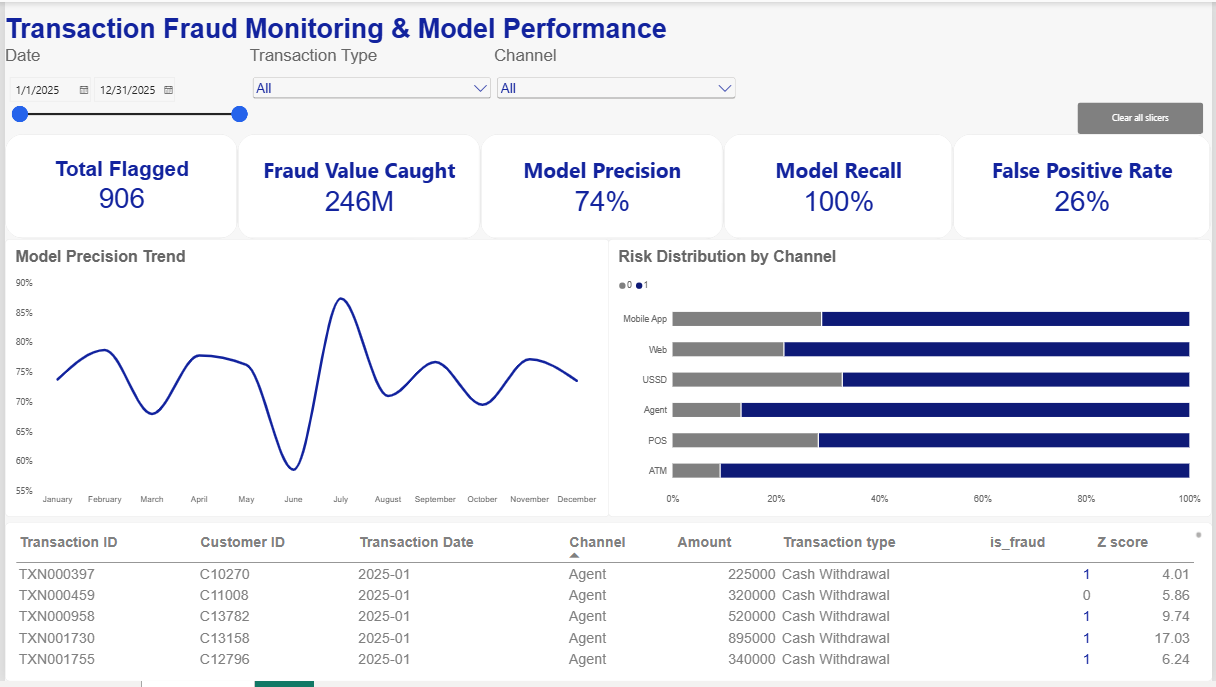

This screenshot's page, from the dashboard's own definition file:
{"tool":"powerbi","page":{"name":"Page 1","canvas":[1920,1080],"ordinal":0},"visuals":[{"type":"textbox","box":[0,0,1920.7,69.2],"z":0},{"type":"cardVisual","fields":{"Data":["Detected Transactions.Total Flagged"]},"box":[0,210,370,166],"z":1000},{"type":"cardVisual","fields":{"Data":["Detected Transactions.Fraud Value Caught"]},"box":[369.8,210,386.5,167],"z":2000},{"type":"cardVisual","fields":{"Data":["Detected Transactions.Model Precision"]},"box":[756.3,210,386.5,167],"z":3000},{"type":"cardVisual","fields":{"Data":["Detected Transactions.Model Recall"]},"box":[1142.9,210,365,167],"z":4000},{"type":"cardVisual","fields":{"Data":["Detected Transactions.False Positive Rate"]},"box":[1507.9,210,410.4,167],"z":5000},{"type":"lineChart","title":"Model Precision Trend","fields":{"Category":["Detected Transactions.transaction_date.Variation.Date Hierarchy.Month"],"Y":["Detected Transactions.Model Precision"]},"box":[0,376,962,442],"z":6000},{"type":"hundredPercentStackedBarChart","title":"Risk Distribution by Channel","fields":{"Category":["Detected Transactions.channel"],"Series":["Detected Transactions.is_fraud"],"Y":["CountNonNull(Detected Transactions.transaction_id)"]},"box":[960,376,960,442],"z":7000},{"type":"tableEx","fields":{"Values":["Detected Transactions.transaction_id","Detected Transactions.customer_id","Detected Transactions.transaction_date","Detected Transactions.channel","Sum(Detected Transactions.amount_ngn)","Detected Transactions.transaction_type","Sum(Detected Transactions.is_fraud)","Sum(Detected Transactions.z_score)"]},"box":[0,827.9,1920.7,252.9],"z":8000},{"type":"slicer","title":"Date","fields":{"Values":["Detected Transactions.transaction_date"]},"box":[0,69.2,388.9,140.8],"z":9000},{"type":"slicer","title":"Transaction Type","fields":{"Values":["Detected Transactions.transaction_type"]},"box":[388.9,69.2,388.9,140.8],"z":10000},{"type":"slicer","title":"Channel","fields":{"Values":["Detected Transactions.channel"]},"box":[777.8,69.2,388.9,140.8],"z":11000},{"type":"actionButton","box":[1705.9,159.9,200,50],"z":12000}]}

Visuals, with their boxes in screenshot pixels (x1, y1, x2, y2), scaled from the page's 1920x1080 canvas onto the 1216x687 screenshot:
textbox: {"x1": 0, "y1": 0, "x2": 1215, "y2": 44}
cardVisual - Detected Transactions.Total Flagged: {"x1": 0, "y1": 134, "x2": 234, "y2": 239}
cardVisual - Detected Transactions.Fraud Value Caught: {"x1": 234, "y1": 134, "x2": 479, "y2": 240}
cardVisual - Detected Transactions.Model Precision: {"x1": 479, "y1": 134, "x2": 724, "y2": 240}
cardVisual - Detected Transactions.Model Recall: {"x1": 724, "y1": 134, "x2": 955, "y2": 240}
cardVisual - Detected Transactions.False Positive Rate: {"x1": 955, "y1": 134, "x2": 1215, "y2": 240}
"Model Precision Trend" lineChart: {"x1": 0, "y1": 239, "x2": 609, "y2": 520}
"Risk Distribution by Channel" hundredPercentStackedBarChart: {"x1": 608, "y1": 239, "x2": 1215, "y2": 520}
tableEx - Detected Transactions.transaction_id x Detected Transactions.customer_id: {"x1": 0, "y1": 527, "x2": 1215, "y2": 686}
"Date" slicer: {"x1": 0, "y1": 44, "x2": 246, "y2": 134}
"Transaction Type" slicer: {"x1": 246, "y1": 44, "x2": 493, "y2": 134}
"Channel" slicer: {"x1": 493, "y1": 44, "x2": 739, "y2": 134}
actionButton: {"x1": 1080, "y1": 102, "x2": 1207, "y2": 134}
